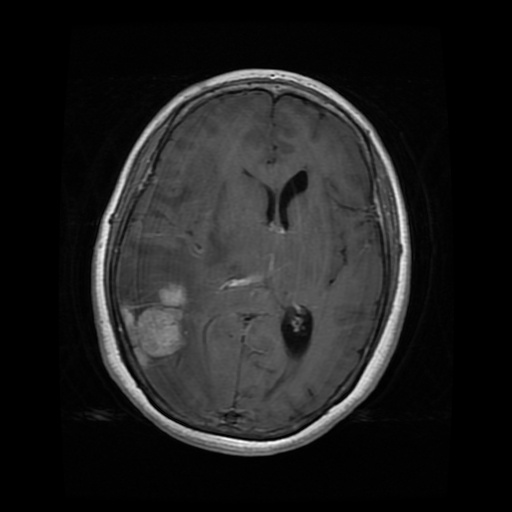meningioma: (120, 284, 187, 368)
